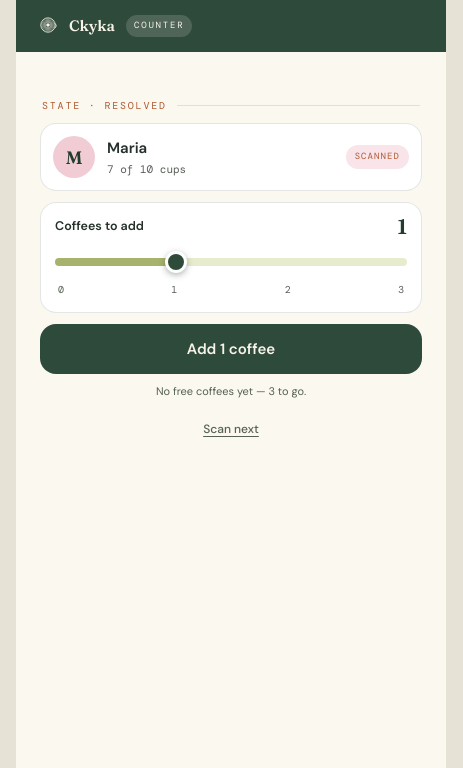
Test: Staff Scan › commits once when the hold elapses and returns to the scanner
Click the button with class "btn-forest".
click(231, 349)  # box [40, 324, 422, 374]
Wait 3200 ms
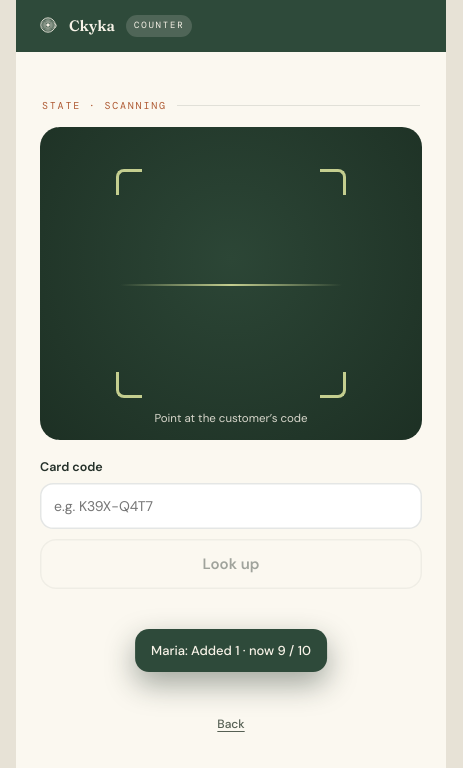
Result: the element showing "Point at the customer’s code" is shown at [40, 127, 422, 440]
Result: the element with class "cust" is gone
